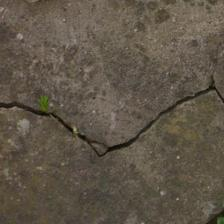Crack: (3, 87, 224, 161)
